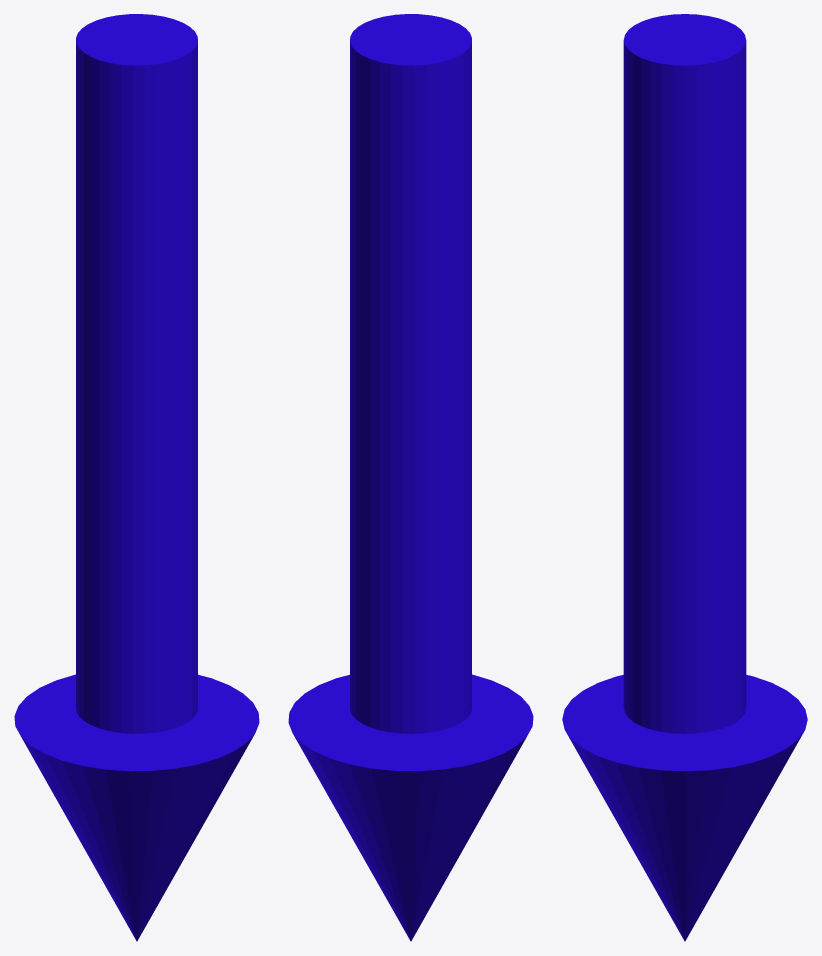
File: small_preview_arrow_blue.glb
3 views of the same model, side by side, from view 1: azimuth 30°, elevation 25°; view 2: azimuth 150°, elevation 25°; view 3: azimuth 270°, elevation 25° (orthographic).
Parts seen in each view (by area): view 1: Cylinder, Cone; view 2: Cylinder, Cone; view 3: Cylinder, Cone.
Part boxes in pixels (bbox=[...]): Cylinder: bbox=[76, 14, 197, 733]; Cone: bbox=[14, 674, 259, 941]; Cylinder: bbox=[350, 14, 471, 733]; Cone: bbox=[288, 674, 533, 941]; Cylinder: bbox=[623, 14, 746, 733]; Cone: bbox=[562, 675, 807, 941].
Bounding box in the file's own units: 0.666 × 2.7 × 0.666.
